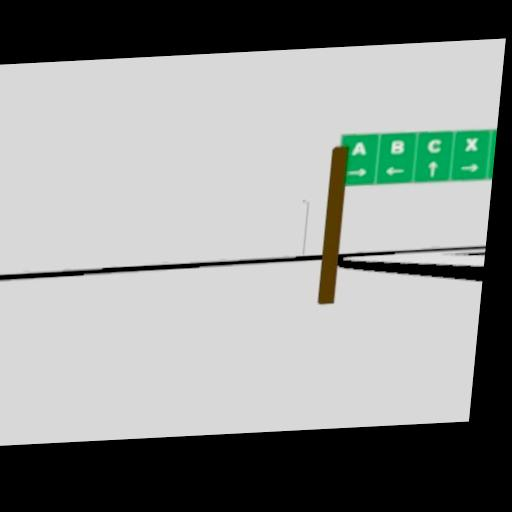A: (352, 140, 366, 153)
B: (390, 138, 404, 151)
C: (426, 138, 442, 152)
Left: (384, 164, 405, 173)
Right: (346, 166, 367, 175), (460, 162, 477, 171)
Straight: (427, 159, 438, 176)
X: (464, 136, 478, 150)
